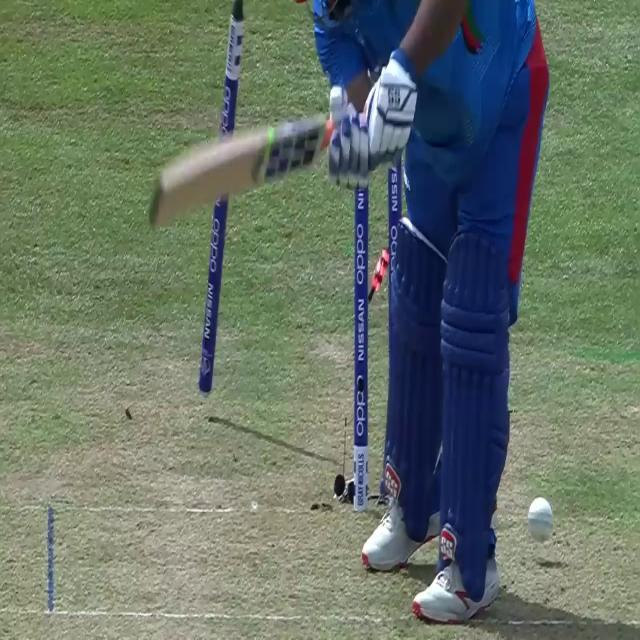ball: (526, 492, 556, 544)
